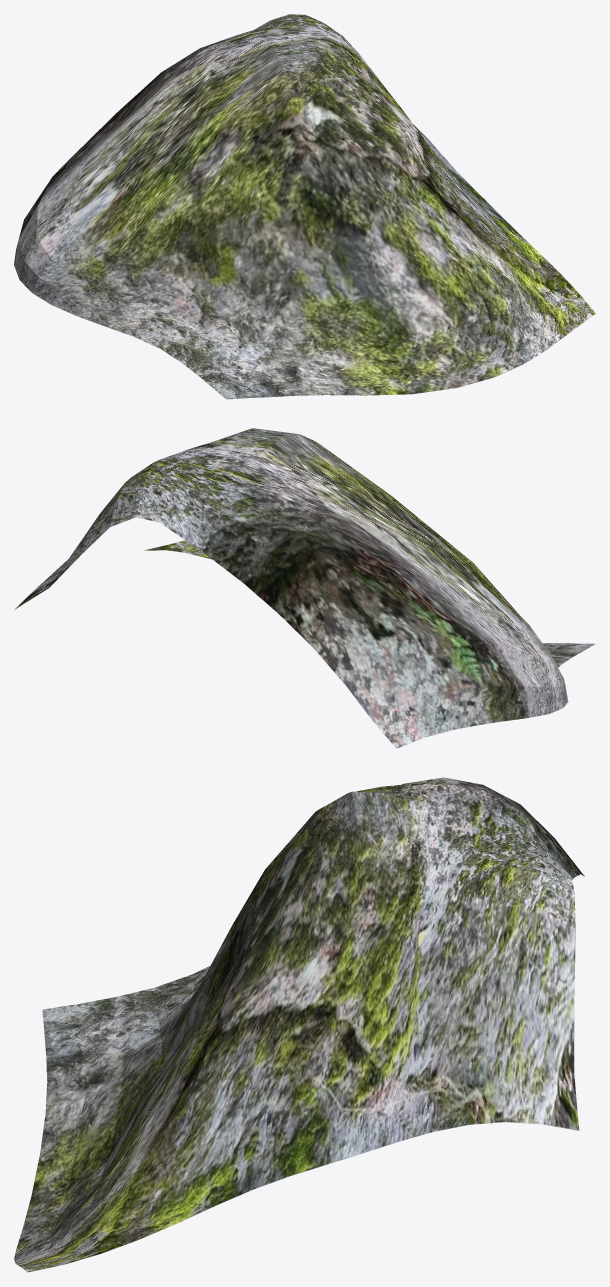
The model's file is forest-mountains-ridge-b.glb.
3 renders of one model, top to bottom at view 1: azimuth 30°, elevation 25°; view 2: azimuth 150°, elevation 25°; view 3: azimuth 270°, elevation 25°, orthographic. The views are drawn at different scales.
Visible parts, largest first — view 1: Plane009; view 2: Plane009; view 3: Plane009.
Boxes of the visible parts, <box> form: Plane009: <box>14,14,595,399</box>; Plane009: <box>14,428,594,748</box>; Plane009: <box>14,777,584,1272</box>.
Size of the model in its own units: 74.43 by 42 by 56.56.
Materials: 1 (1 with a texture image).
